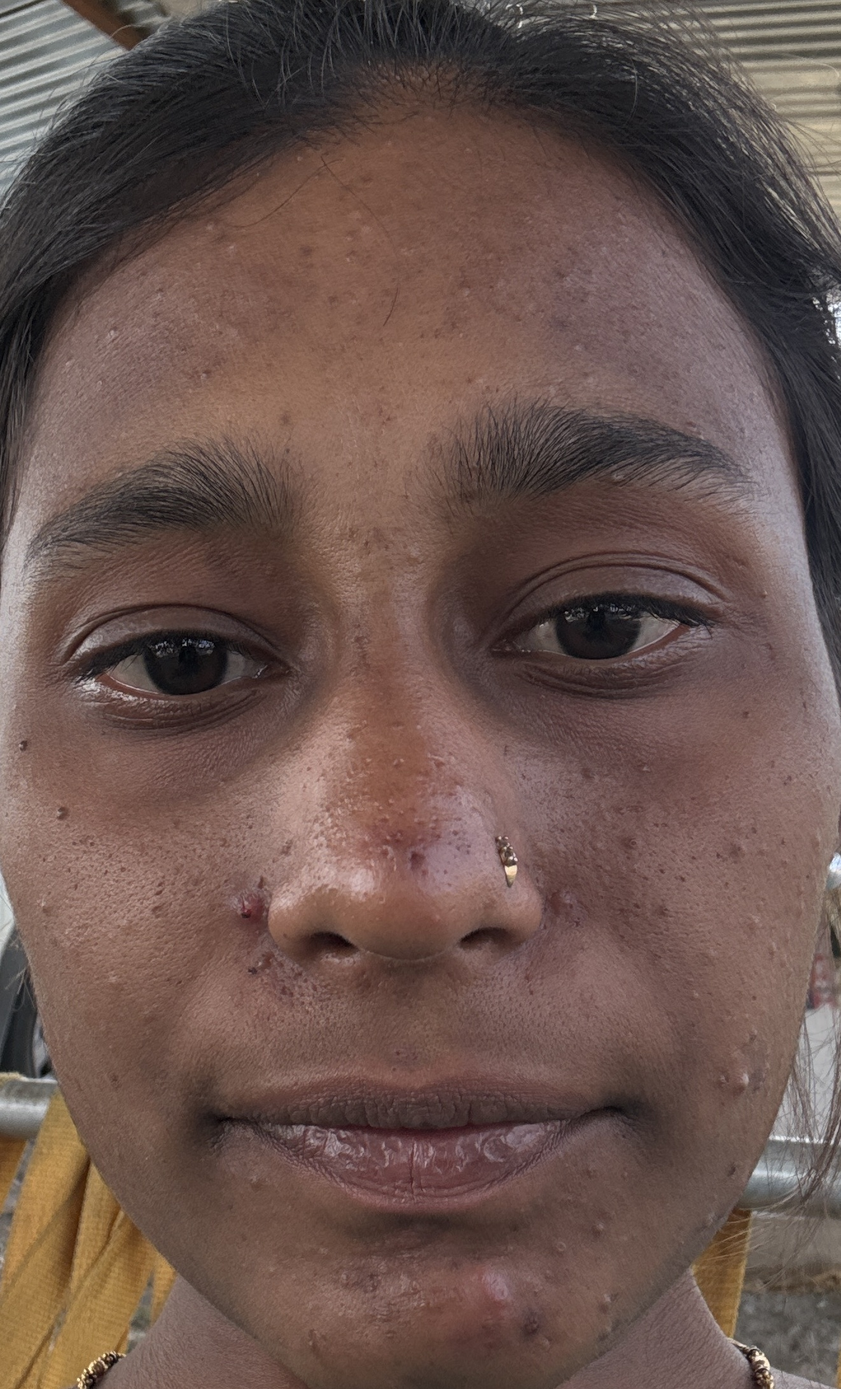closed_comedone: (197, 212, 286, 288), (30, 794, 114, 863), (371, 526, 468, 581), (550, 345, 630, 407), (463, 265, 520, 324), (584, 1278, 646, 1331), (605, 826, 667, 872), (564, 1202, 628, 1246), (699, 826, 766, 868), (32, 891, 78, 946), (752, 897, 800, 943), (92, 962, 144, 1003), (144, 279, 179, 320)
papule: (529, 863, 580, 925)
pustule: (472, 1269, 534, 1335), (218, 884, 296, 929), (717, 1060, 779, 1099)
